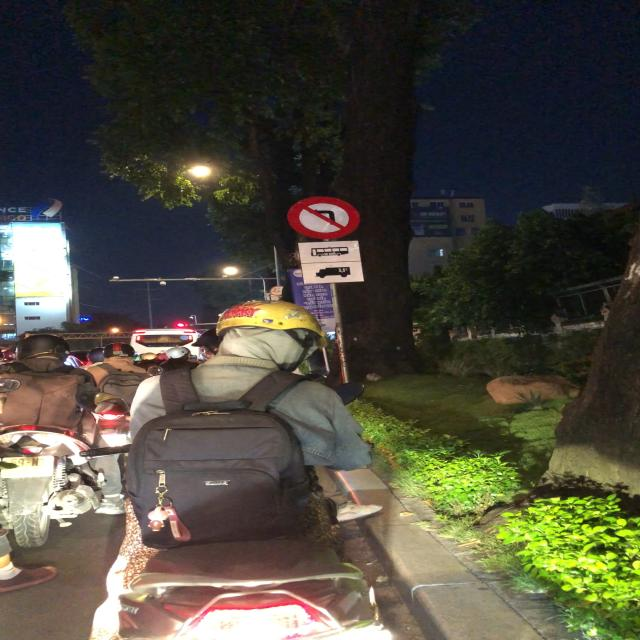Bien bao cam re trai: (286, 194, 360, 240)
